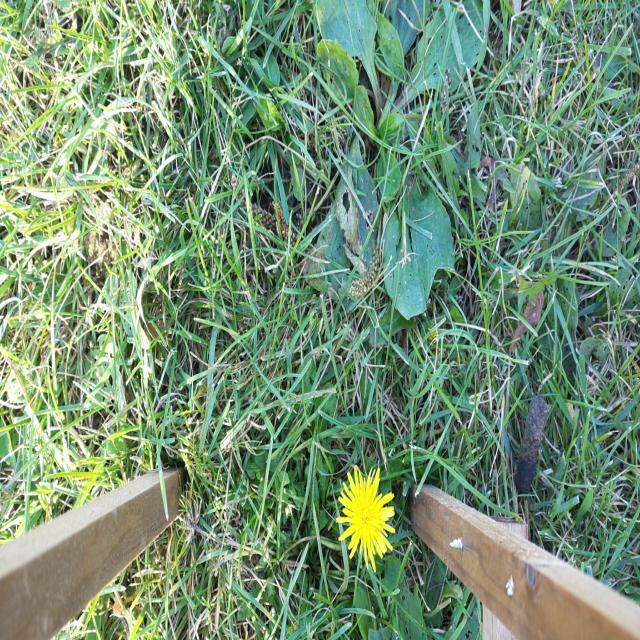flower: (337, 466, 397, 570)
